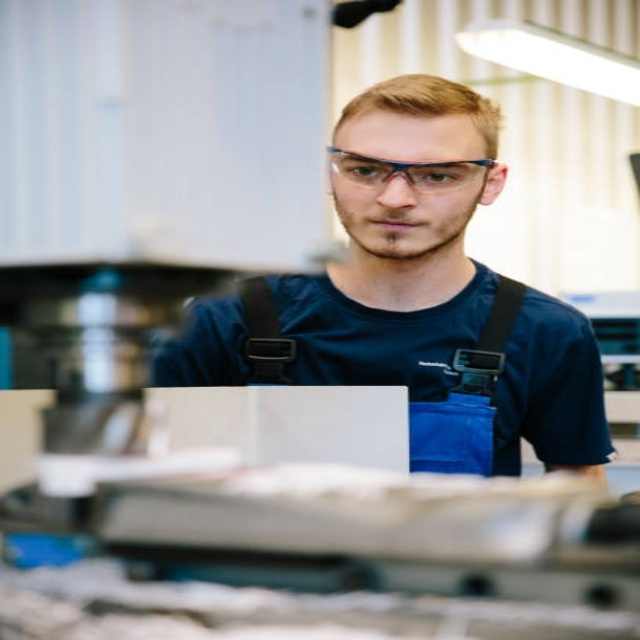Gafas: (328, 147, 497, 192)
Sin_mascara: (358, 207, 439, 254)
